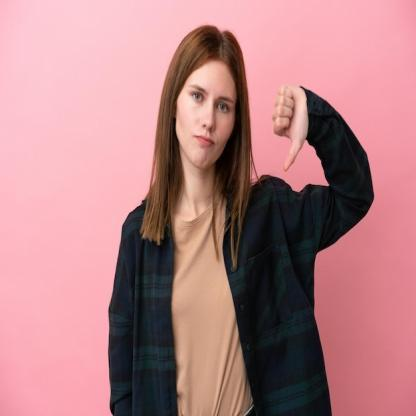thumb_down: (270, 81, 312, 173)
